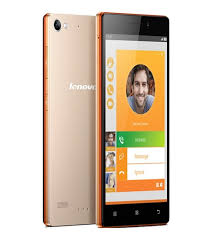lenovo: (92, 10, 172, 231)
